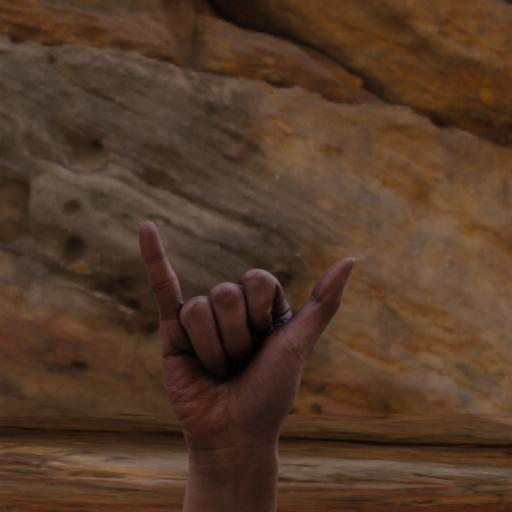Y: (118, 199, 371, 457)
